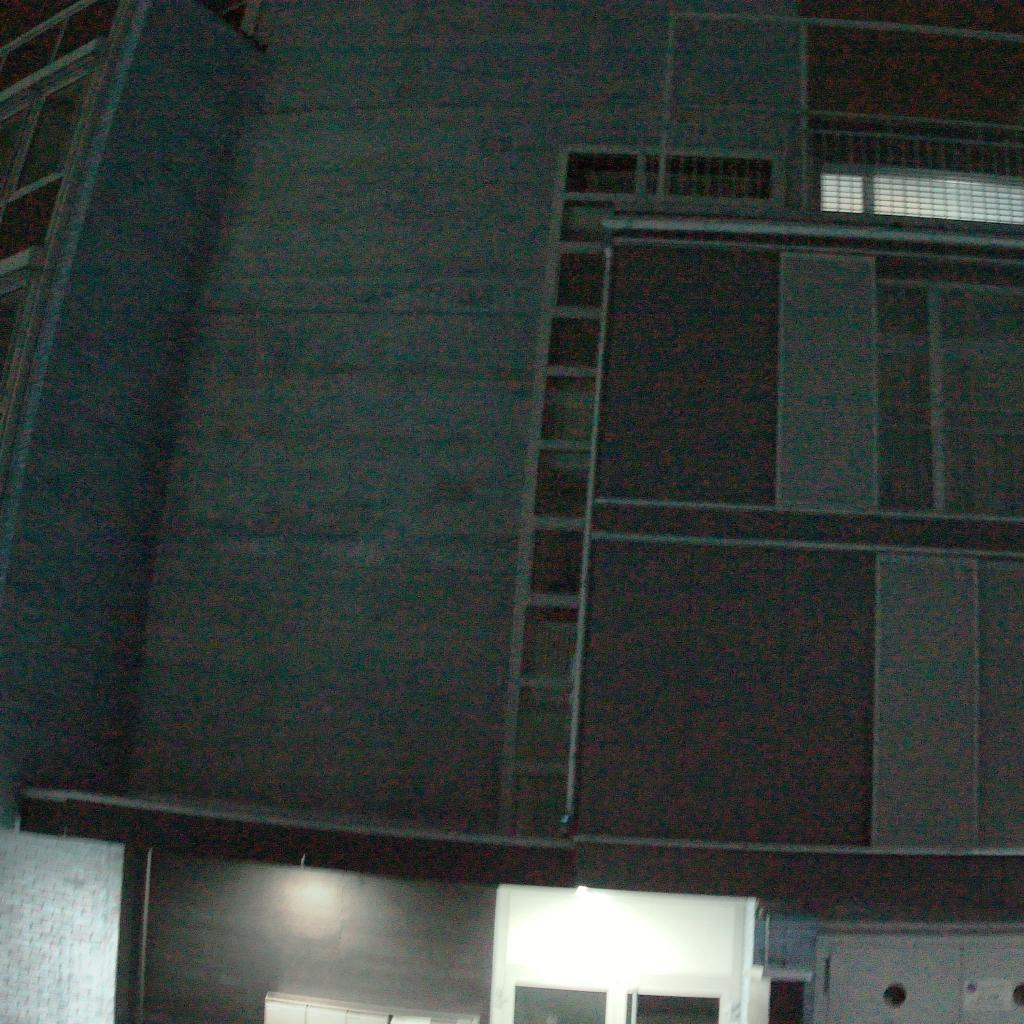balcony-fence: (633, 101, 1024, 225)
window: (875, 278, 1024, 517), (820, 161, 1024, 225), (0, 62, 93, 200), (514, 986, 606, 1024)
